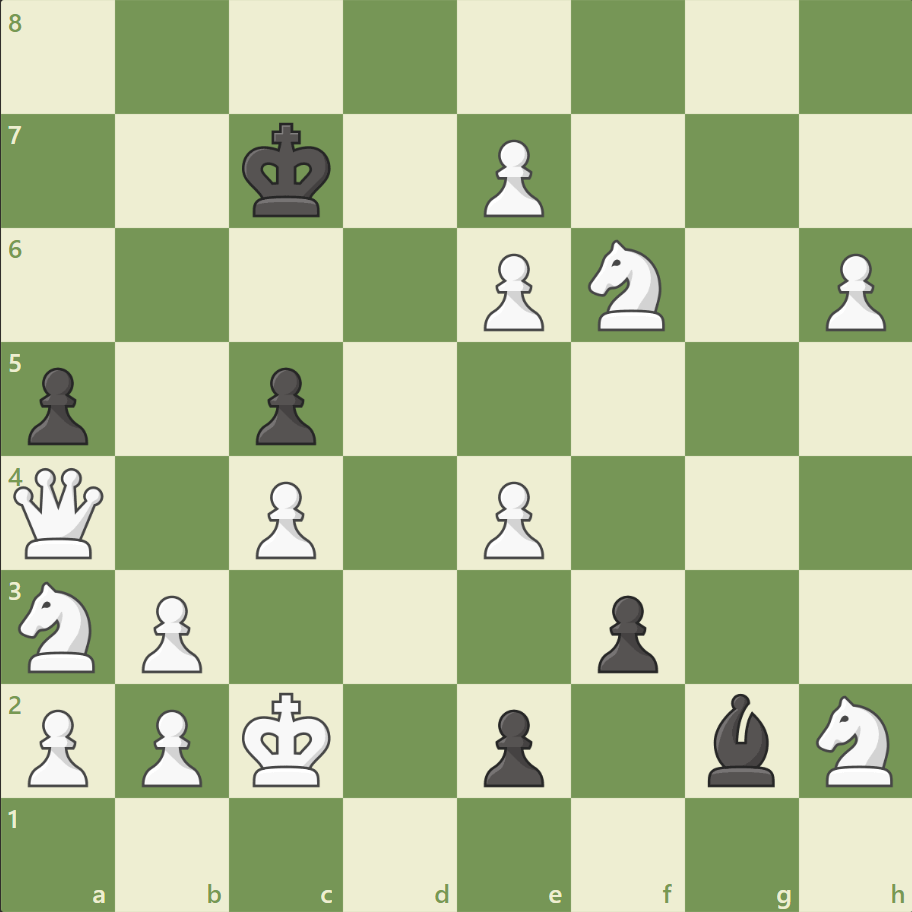K: (238, 685, 338, 793)
N: (579, 234, 676, 337), (806, 688, 903, 791), (11, 575, 108, 677)
P: (474, 132, 549, 223), (474, 246, 549, 337), (247, 473, 322, 564), (474, 473, 549, 564), (133, 586, 208, 677), (20, 700, 95, 791), (133, 700, 208, 791), (815, 246, 889, 337)
Q: (10, 463, 109, 562)
b: (698, 687, 782, 790)
k: (238, 117, 338, 225)
p: (20, 359, 95, 450), (247, 359, 322, 450), (474, 700, 549, 791), (588, 586, 662, 677)
